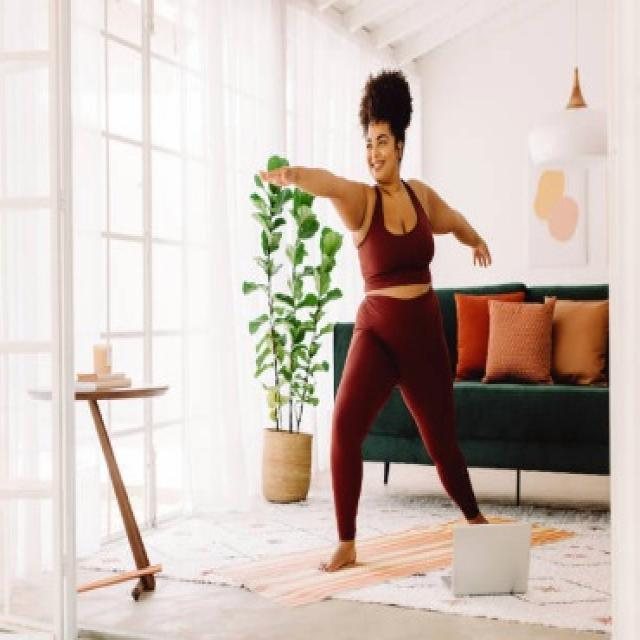adult: (257, 64, 508, 568)
